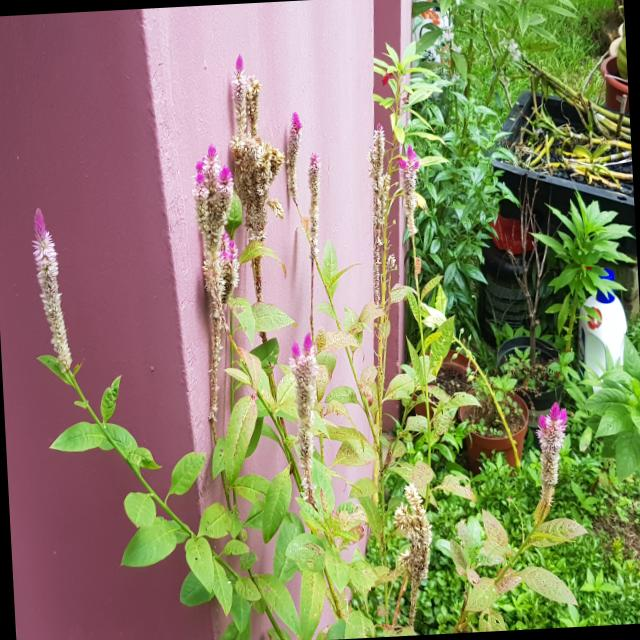Celosia-Argentea: (11, 202, 86, 411), (223, 45, 284, 282), (178, 124, 242, 324), (276, 328, 334, 500), (291, 130, 346, 269), (358, 116, 398, 269), (532, 403, 576, 523), (396, 484, 442, 592), (390, 123, 422, 260), (280, 91, 309, 200)
